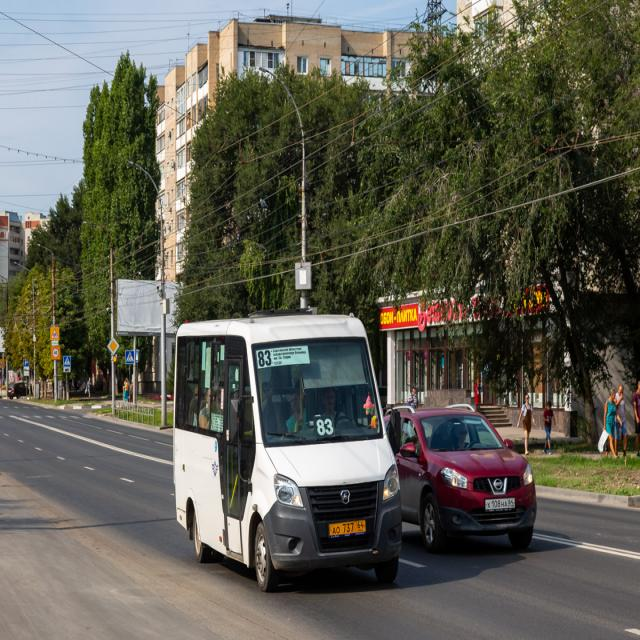number-of-bus: (317, 420, 336, 439)
